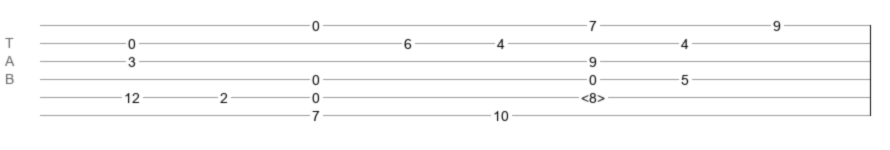0: (128, 36, 136, 46), (312, 90, 320, 100), (312, 18, 320, 28), (312, 72, 320, 82), (589, 72, 597, 82)
10: (493, 108, 509, 118)
12: (124, 90, 140, 100)
2: (220, 90, 228, 100)
3: (128, 54, 136, 64)
4: (497, 36, 505, 46), (681, 36, 689, 46)
5: (681, 72, 689, 82)
6: (404, 36, 412, 46)
7: (312, 108, 320, 118), (589, 18, 597, 28)
9: (589, 54, 597, 64), (773, 18, 781, 28)
harmonic: (581, 90, 605, 100)
